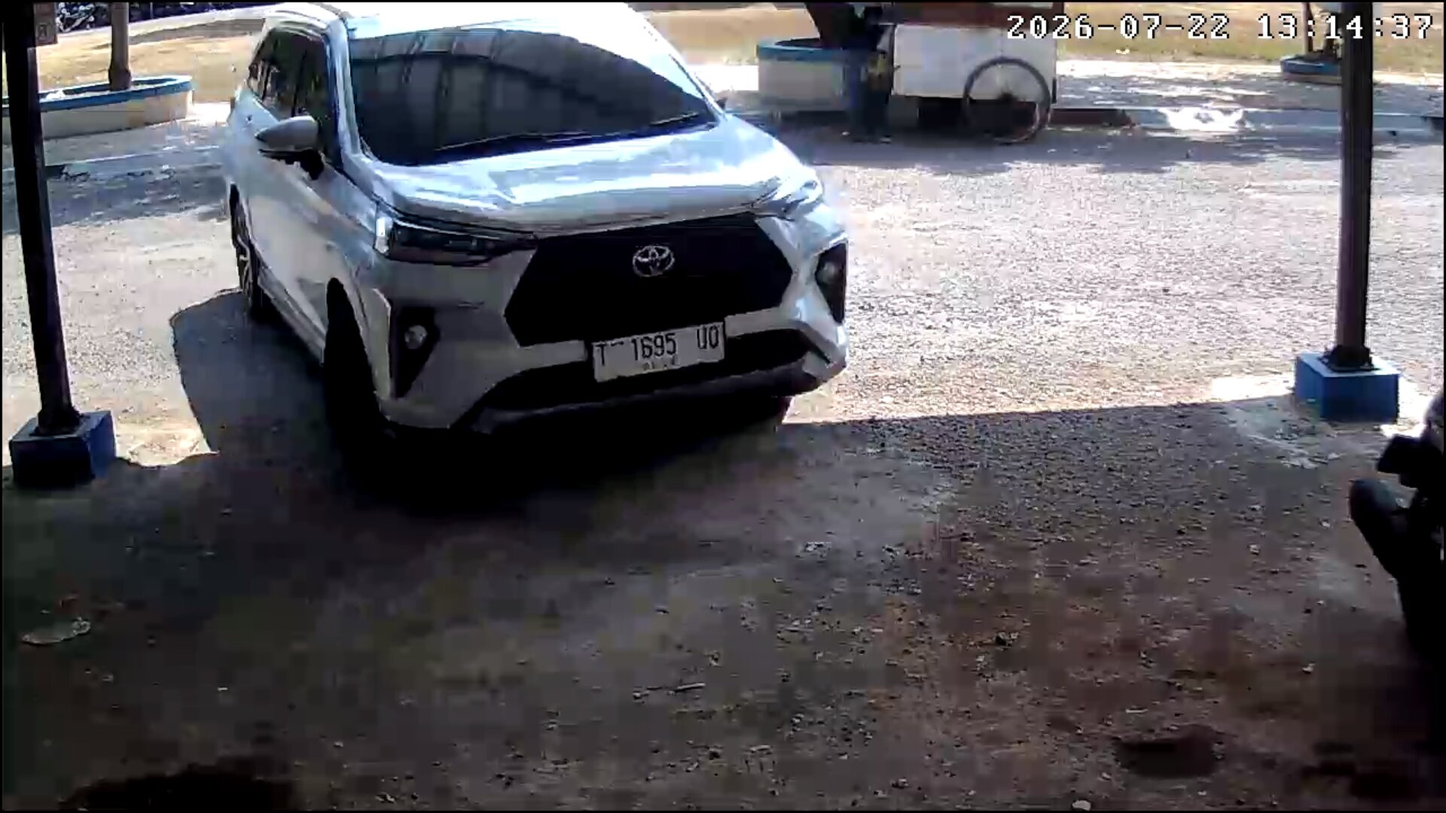plat nomor: (590, 320, 726, 386)
